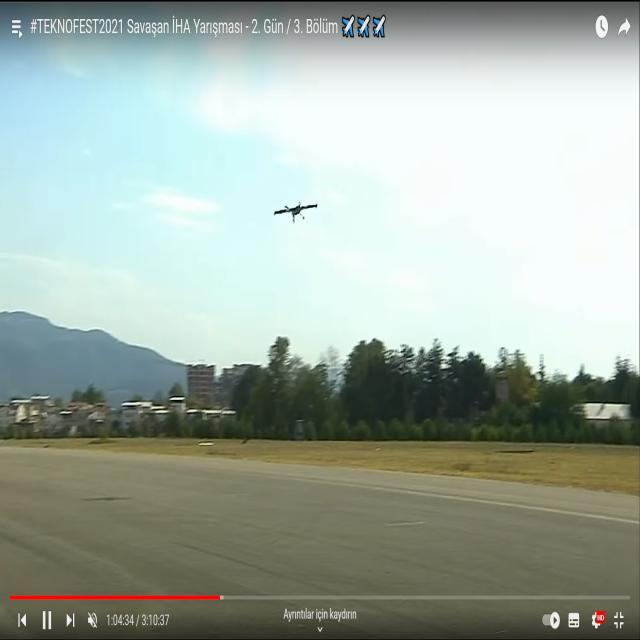iha: (274, 200, 318, 223)
